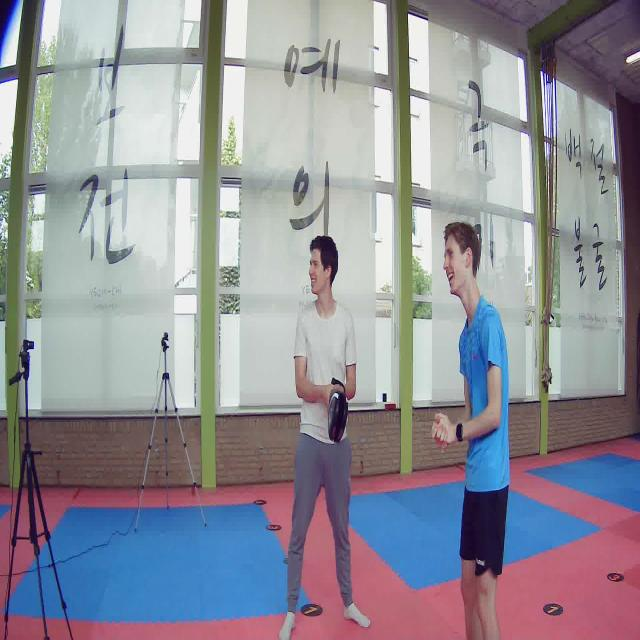paddle: (328, 377, 349, 442)
